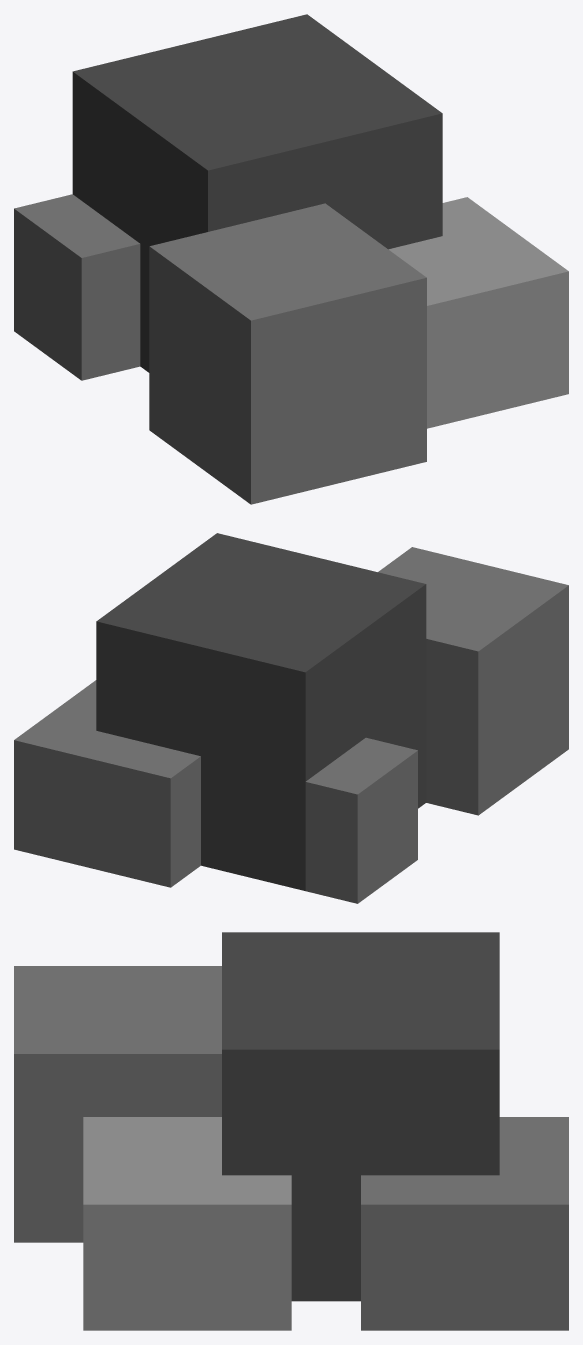
File: Rocks-2.obj
3 views of the same model, one above another, from view 1: azimuth 30°, elevation 25°; view 2: azimuth 150°, elevation 25°; view 3: azimuth 270°, elevation 25° (orthographic). The views are drawn at different scales.
Parts seen in each view (by area): view 1: Rocks-2; view 2: Rocks-2; view 3: Rocks-2.
Boxes of the visible parts, left/top/right/bottom form: Rocks-2: left=14, top=14, right=568, bottom=504; Rocks-2: left=14, top=533, right=568, bottom=903; Rocks-2: left=14, top=932, right=568, bottom=1330.
Bounding box in the file's own units: 6 × 4 × 8.
Materials: 1 (1 with a texture image).
